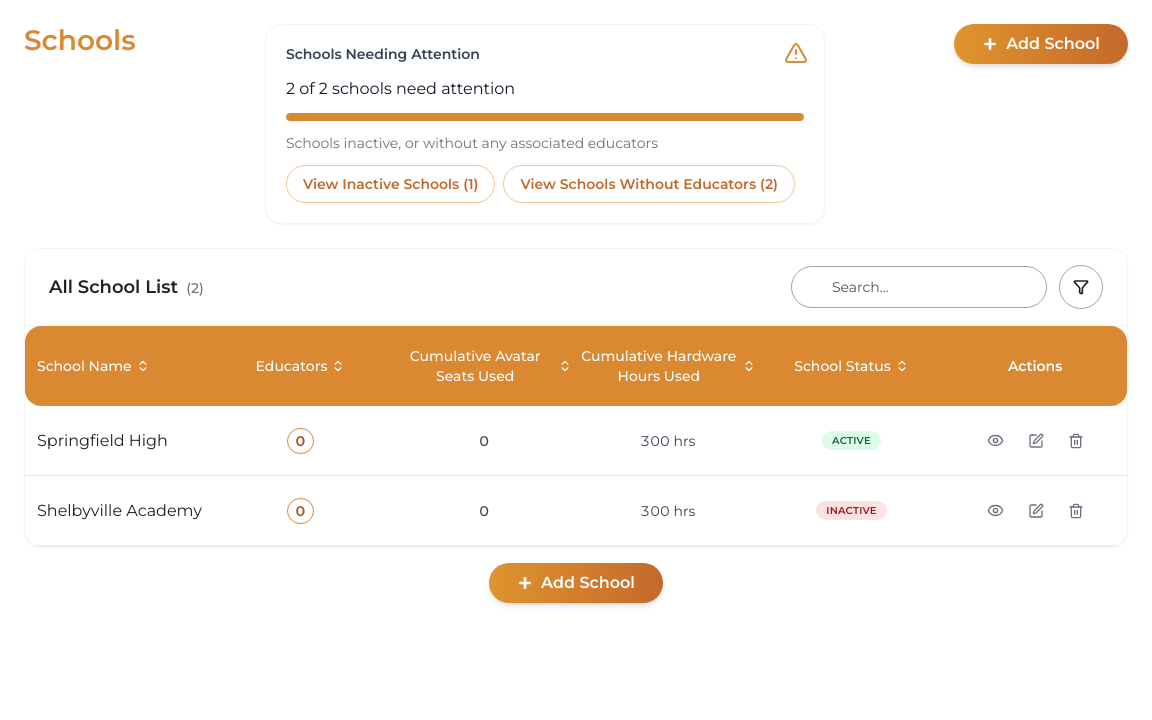
Test: Edit School › closes modal when Back button is clicked
The image size is (1152, 720).
Click the button with class "lucide-square-pen" at (1036, 440), box x1=1022 y1=426 x2=1050 y2=454
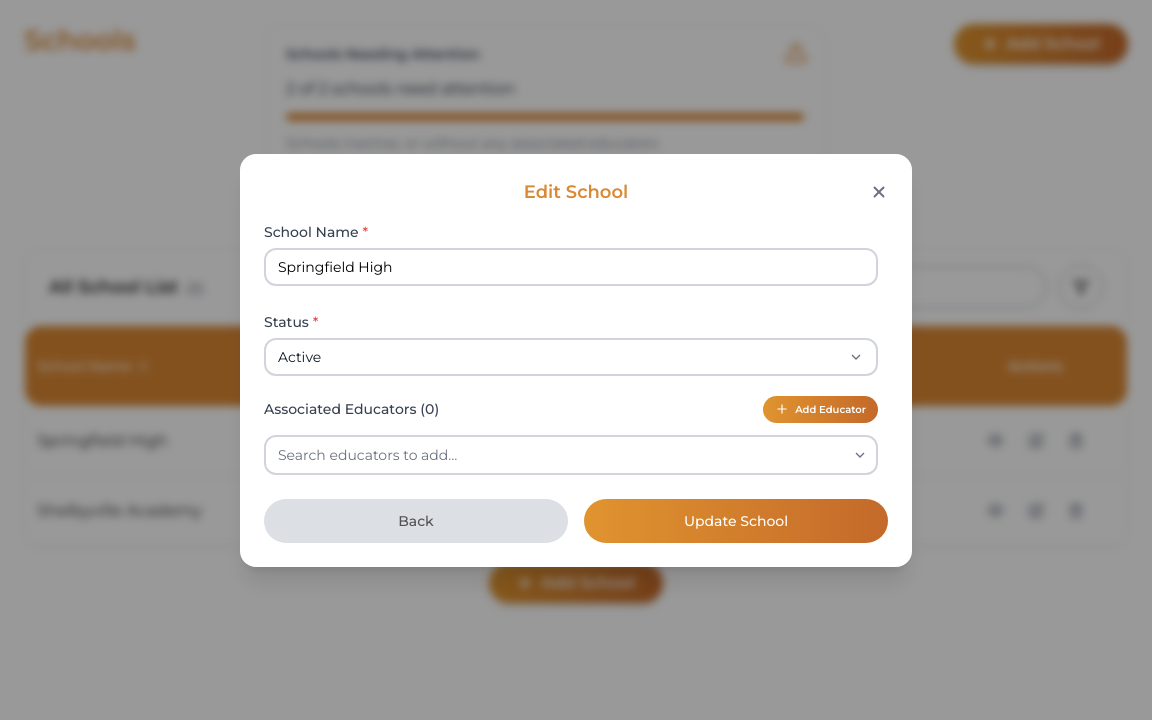
Click the button "Back" at (416, 520), box x1=264 y1=498 x2=568 y2=542
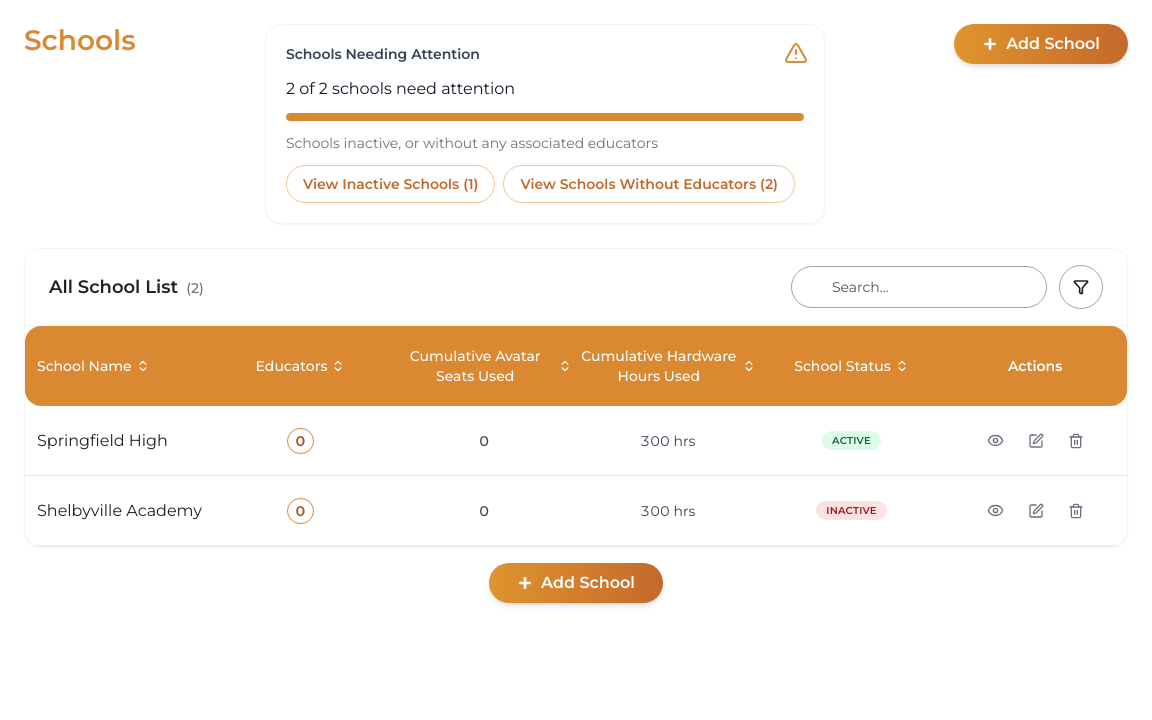
Now the heading "Edit School" is gone
